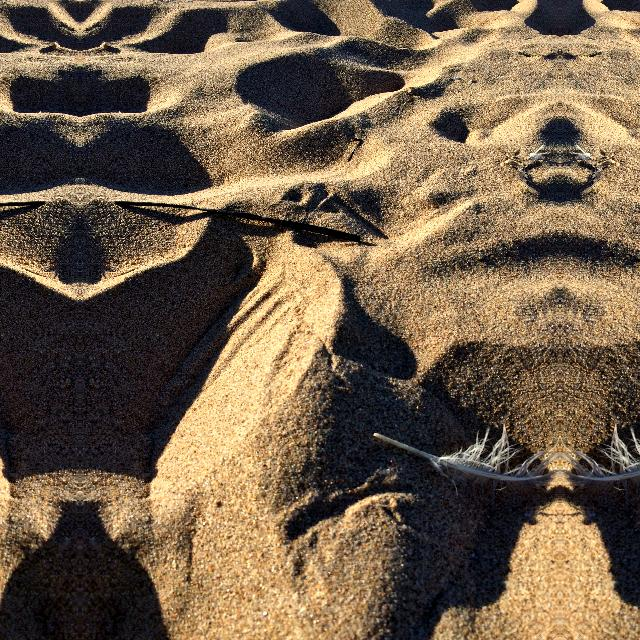Plastic: (108, 192, 372, 245)
